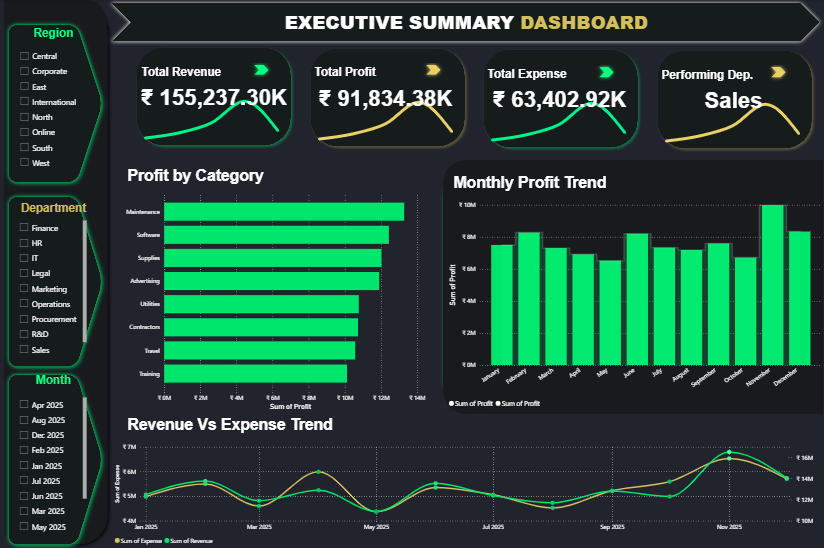

Layout of this report page (visuals, bound fields, positions):
{"tool":"powerbi","page":{"name":"Page 1","canvas":[1680,1120],"ordinal":0},"visuals":[{"type":"shape","box":[135.7,0,94.3,1120],"z":0},{"type":"shape","box":[1332.1,95.9,332.8,218.3],"z":0,"group":"g1"},{"type":"shape","box":[10,0,210,1095],"z":1000},{"type":"shape","box":[626,91.5,332.8,218.3],"z":2000,"group":"g1"},{"type":"shape","box":[897.5,335,95,510],"z":2000},{"type":"shape","box":[905,327.5,775,517.5],"z":3000},{"type":"shape","box":[1565.1,131.5,46.2,37.5],"z":4000,"group":"g1"},{"type":"lineChart","fields":{"Y":["Sum(finance_master.Expense)"],"Y2":["Sum(finance_master.Revenue)"],"Category":["finance_master.Date.Variation.Date Hierarchy.Year","finance_master.Date.Variation.Date Hierarchy.Month"]},"box":[230,897.5,1450,222.5],"z":4000},{"type":"shape","box":[271.8,90.3,332.8,218.3],"z":5000,"group":"g1"},{"type":"lineClusteredColumnComboChart","fields":{"Category":["finance_master.Date.Variation.Date Hierarchy.Month"],"Y":["Sum(finance_master.Profit)"],"Y2":["Sum(finance_master.Profit)"]},"box":[910,405,770,437.5],"z":5000},{"type":"shape","box":[862.6,127.8,46.2,36.2],"z":6000,"group":"g1"},{"type":"clusteredBarChart","fields":{"Category":["finance_master.Expense_Category"],"Y":["Sum(finance_master.Profit)"]},"box":[247.5,382.5,625,460],"z":6000},{"type":"shape","box":[10,42.5,210,340],"z":7000},{"type":"shape","box":[511.4,126.5,46.2,36.2],"z":7000,"group":"g1"},{"type":"shape","box":[977.9,94.7,332.8,218.3],"z":8000,"group":"g1"},{"type":"shape","box":[10,392.5,210,365],"z":8000},{"type":"shape","box":[1215.1,130.3,46.2,37.5],"z":9000,"group":"g1"},{"type":"shape","box":[10,755,210,365],"z":9000},{"type":"slicer","fields":{"Values":["finance_master.Region"]},"box":[30,95,152.5,287.5],"z":10000},{"type":"textbox","box":[991.4,135.3,191.2,37.5],"z":10000,"group":"g1"},{"type":"textbox","box":[638.9,131.5,177.5,38.8],"z":11000,"group":"g1"},{"type":"slicer","fields":{"Values":["finance_master.Department"]},"box":[30,445,152.5,287.5],"z":11000},{"type":"textbox","box":[1345.1,136.6,205,37.5],"z":12000,"group":"g1"},{"type":"slicer","fields":{"Values":["finance_master.Month Name"]},"box":[30,807.1,152.9,287.1],"z":12000},{"type":"shape","box":[220,0,1460,95],"z":13000},{"type":"textbox","box":[285.1,130.3,177.5,38.8],"z":13000,"group":"g1"},{"type":"textbox","box":[21.4,51.4,177.1,38.6],"z":14000},{"type":"lineChart","fields":{"Category":["sales_trend.Year"],"Y":["Avg(sales_trend.Total_sales)"]},"box":[1345.3,198,299.3,109.1],"z":14000,"group":"g1"},{"type":"lineChart","fields":{"Category":["sales_trend.Year"],"Y":["Avg(sales_trend.Total_sales)"]},"box":[991.1,196.8,299.3,109.1],"z":15000,"group":"g1"},{"type":"textbox","box":[21.4,407.1,177.1,38.6],"z":15000},{"type":"lineChart","fields":{"Category":["sales_trend.Year"],"Y":["Avg(sales_trend.Total_sales)"]},"box":[639.1,193.7,299.3,109.1],"z":16000,"group":"g1"},{"type":"textbox","box":[21.4,757.1,177.1,38.6],"z":16000},{"type":"lineChart","fields":{"Category":["sales_trend.Year"],"Y":["Avg(sales_trend.Total_sales)"]},"box":[284.9,192.4,299.3,109.1],"z":17000,"group":"g1"},{"type":"textbox","box":[257.5,842.5,447.5,55],"z":17000},{"type":"card","fields":{"Values":["finance_master.Highest Performing Department"]},"box":[1364.2,156.1,267.1,96.5],"z":18000,"group":"g1"},{"type":"textbox","box":[920,350,447.5,55],"z":18000},{"type":"textbox","box":[237.5,15,1427.5,77.5],"z":19000},{"type":"card","fields":{"Values":["Sum(finance_master.Expense)"]},"box":[977.1,154.3,332,98],"z":19000,"group":"g1"},{"type":"card","fields":{"Values":["Sum(finance_master.Profit)"]},"box":[639.1,152.3,300,96],"z":20000,"group":"g1"},{"type":"textbox","box":[257.5,335,447.5,55],"z":20000},{"type":"group","id":"g1","title":"Group 1","box":[271.8,90.3,1393.2,223.9],"z":21000},{"type":"card","fields":{"Values":["Sum(finance_master.Revenue)"]},"box":[279.1,150.3,318,96],"z":22000,"group":"g1"}]}

Visuals, with their boxes in screenshot pixels (x1, y1, x2, y2), scaled from the page's 1680x1120 canvas onto the 824x548 screenshot:
shape: <bbox>67, 0, 113, 547</bbox>
shape: <bbox>653, 47, 817, 154</bbox>
shape: <bbox>5, 0, 108, 536</bbox>
shape: <bbox>307, 45, 470, 152</bbox>
shape: <bbox>440, 164, 487, 413</bbox>
shape: <bbox>444, 160, 823, 413</bbox>
shape: <bbox>768, 64, 790, 83</bbox>
lineChart - Sum(finance_master.Expense) x Sum(finance_master.Revenue): <bbox>113, 439, 823, 547</bbox>
shape: <bbox>133, 44, 297, 151</bbox>
lineClusteredColumnComboChart - finance_master.Date.Variation.Date Hierarchy.Month x Sum(finance_master.Profit): <bbox>446, 198, 823, 412</bbox>
shape: <bbox>423, 63, 446, 80</bbox>
clusteredBarChart - finance_master.Expense_Category x Sum(finance_master.Profit): <bbox>121, 187, 428, 412</bbox>
shape: <bbox>5, 21, 108, 187</bbox>
shape: <bbox>251, 62, 273, 80</bbox>
shape: <bbox>480, 46, 643, 153</bbox>
shape: <bbox>5, 192, 108, 371</bbox>
shape: <bbox>596, 64, 619, 82</bbox>
shape: <bbox>5, 369, 108, 547</bbox>
slicer - finance_master.Region: <bbox>15, 46, 90, 187</bbox>
textbox: <bbox>486, 66, 580, 85</bbox>
textbox: <bbox>313, 64, 400, 83</bbox>
slicer - finance_master.Department: <bbox>15, 218, 90, 358</bbox>
textbox: <bbox>660, 67, 760, 85</bbox>
slicer - finance_master.Month Name: <bbox>15, 395, 90, 535</bbox>
shape: <bbox>108, 0, 823, 46</bbox>
textbox: <bbox>140, 64, 227, 83</bbox>
textbox: <bbox>10, 25, 97, 44</bbox>
lineChart - sales_trend.Year x Avg(sales_trend.Total_sales): <bbox>660, 97, 807, 150</bbox>
lineChart - sales_trend.Year x Avg(sales_trend.Total_sales): <bbox>486, 96, 633, 150</bbox>
textbox: <bbox>10, 199, 97, 218</bbox>
lineChart - sales_trend.Year x Avg(sales_trend.Total_sales): <bbox>313, 95, 460, 148</bbox>
textbox: <bbox>10, 370, 97, 389</bbox>
lineChart - sales_trend.Year x Avg(sales_trend.Total_sales): <bbox>140, 94, 287, 148</bbox>
textbox: <bbox>126, 412, 346, 439</bbox>
card - finance_master.Highest Performing Department: <bbox>669, 76, 800, 124</bbox>
textbox: <bbox>451, 171, 671, 198</bbox>
textbox: <bbox>116, 7, 817, 45</bbox>
card - Sum(finance_master.Expense): <bbox>479, 75, 642, 123</bbox>
card - Sum(finance_master.Profit): <bbox>313, 75, 461, 121</bbox>
textbox: <bbox>126, 164, 346, 191</bbox>
"Group 1" group: <bbox>133, 44, 817, 154</bbox>
card - Sum(finance_master.Revenue): <bbox>137, 74, 293, 121</bbox>
